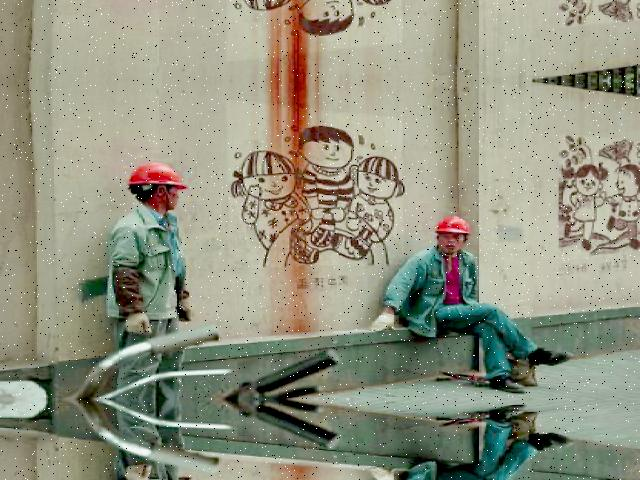Helmet: (124, 158, 193, 199), (430, 210, 478, 244)
